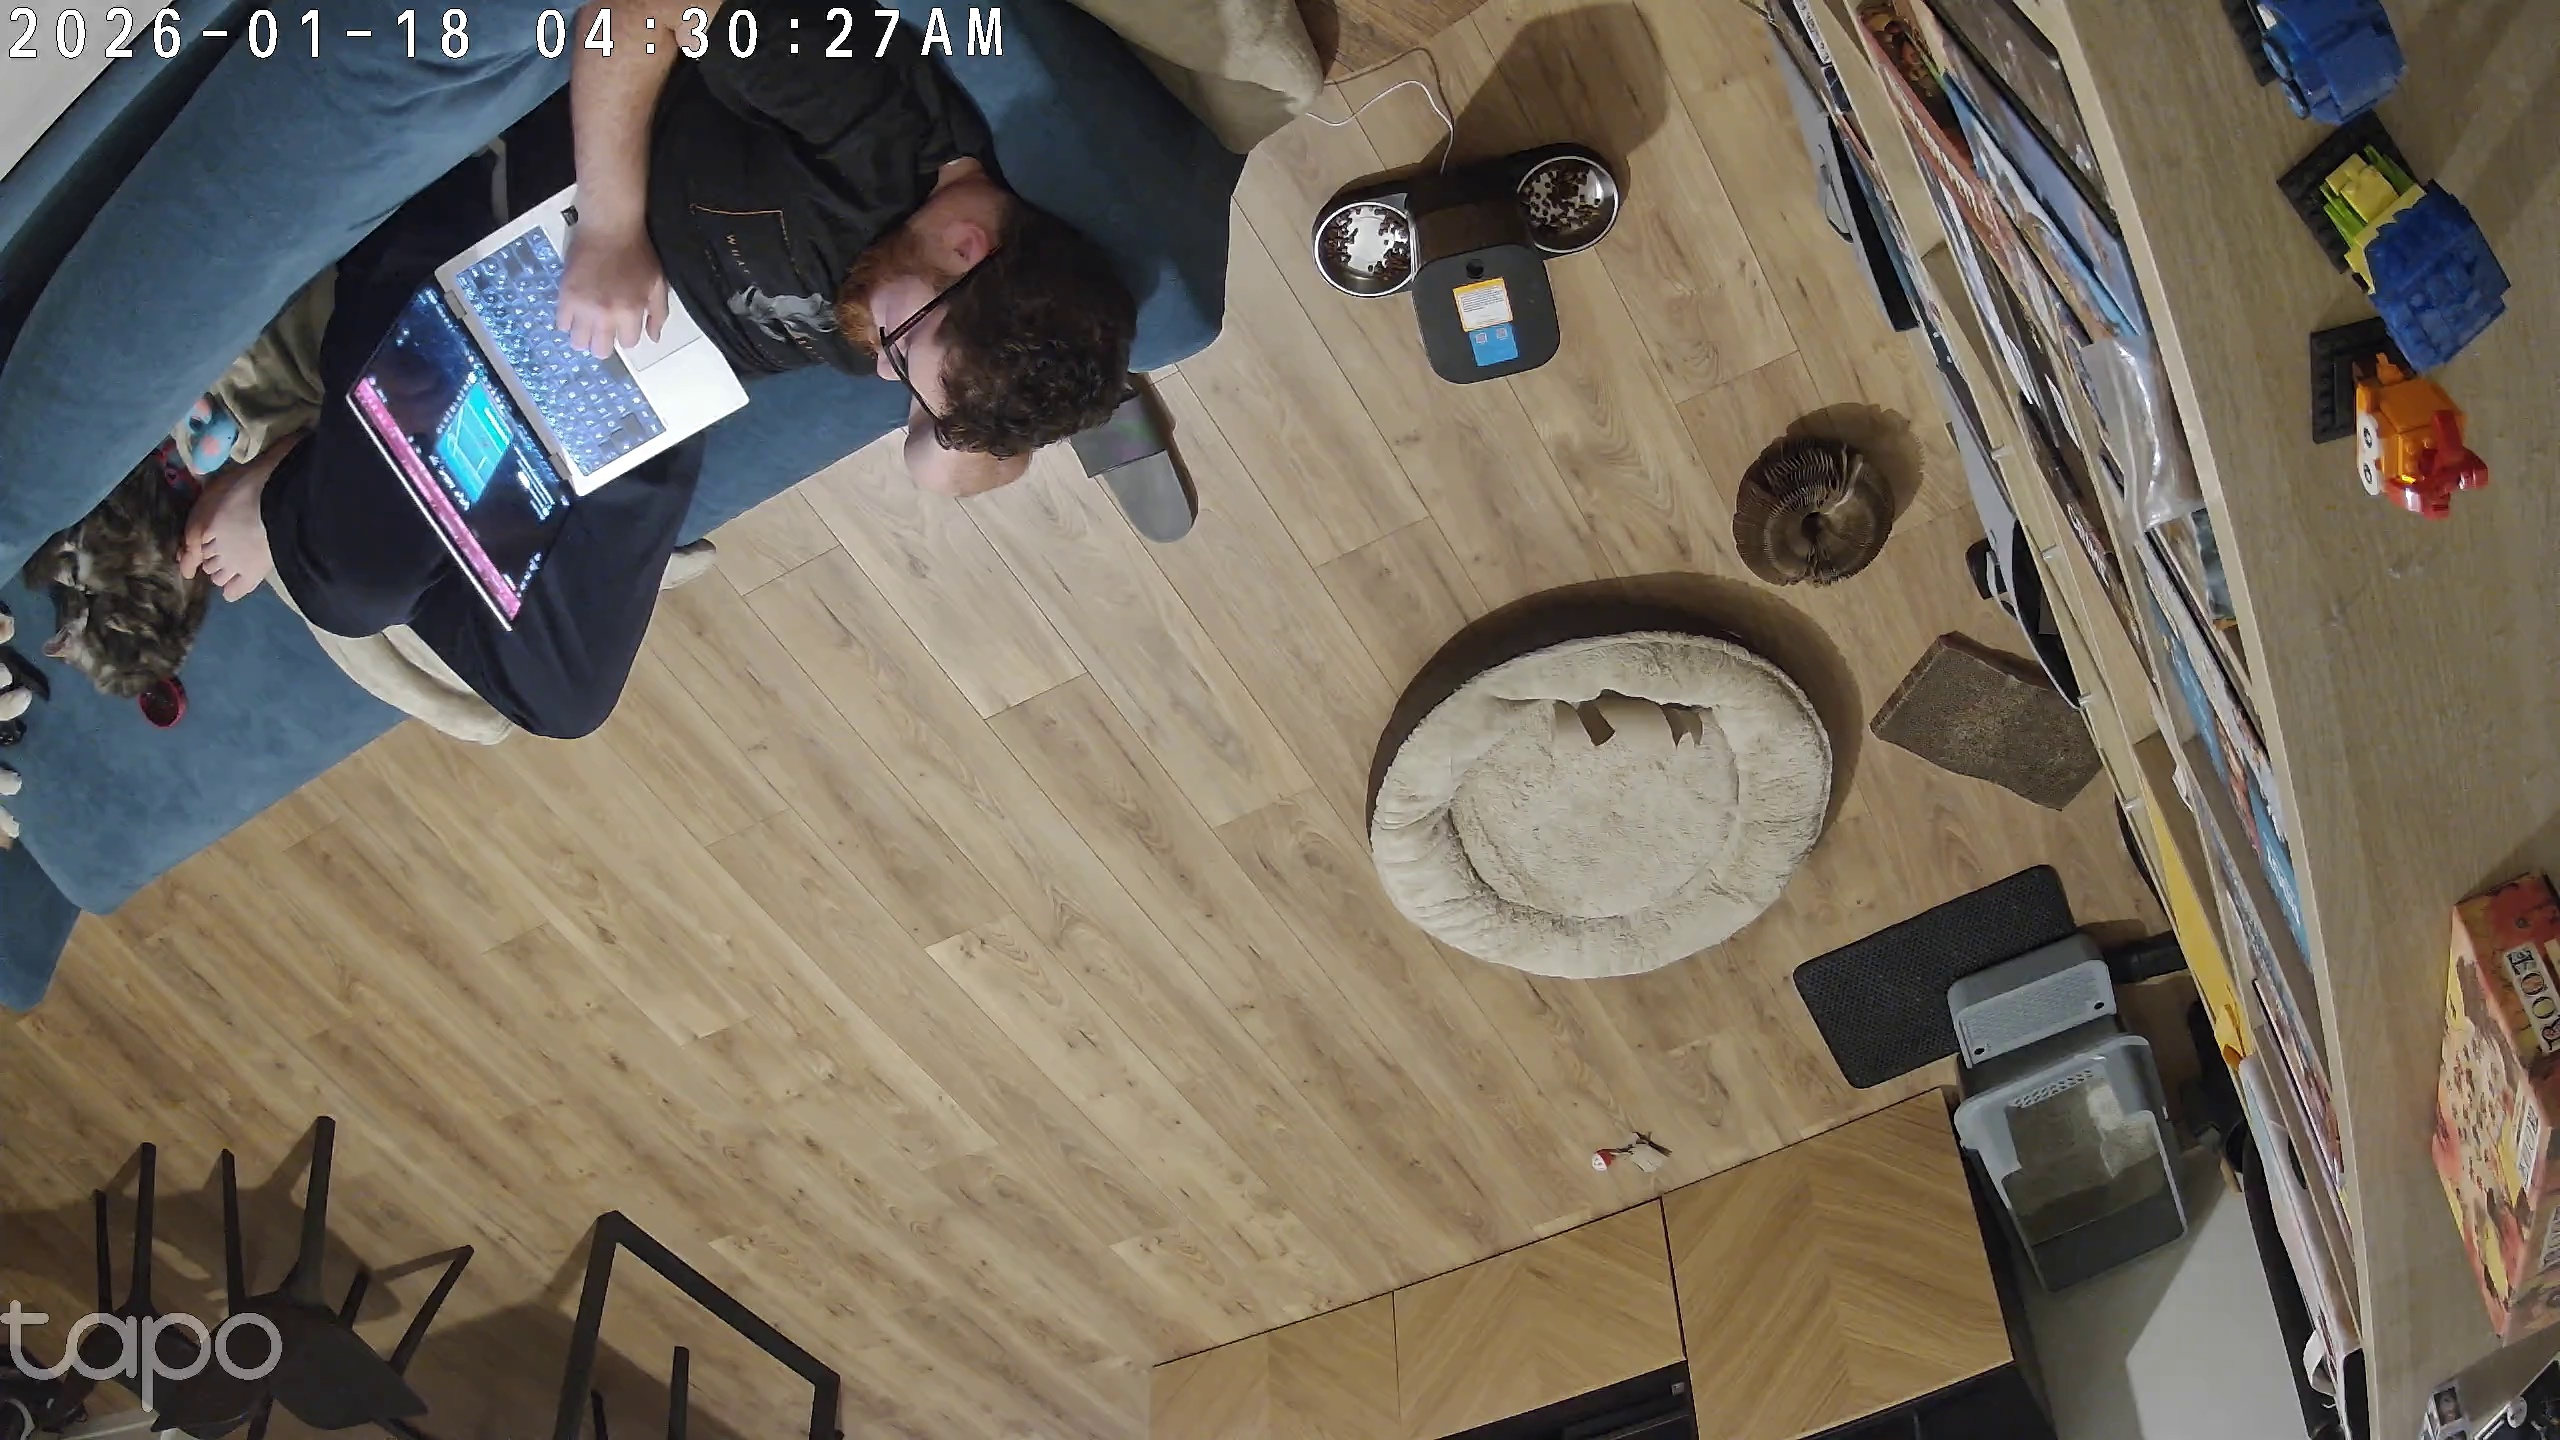Nala: (25, 440, 216, 705)
